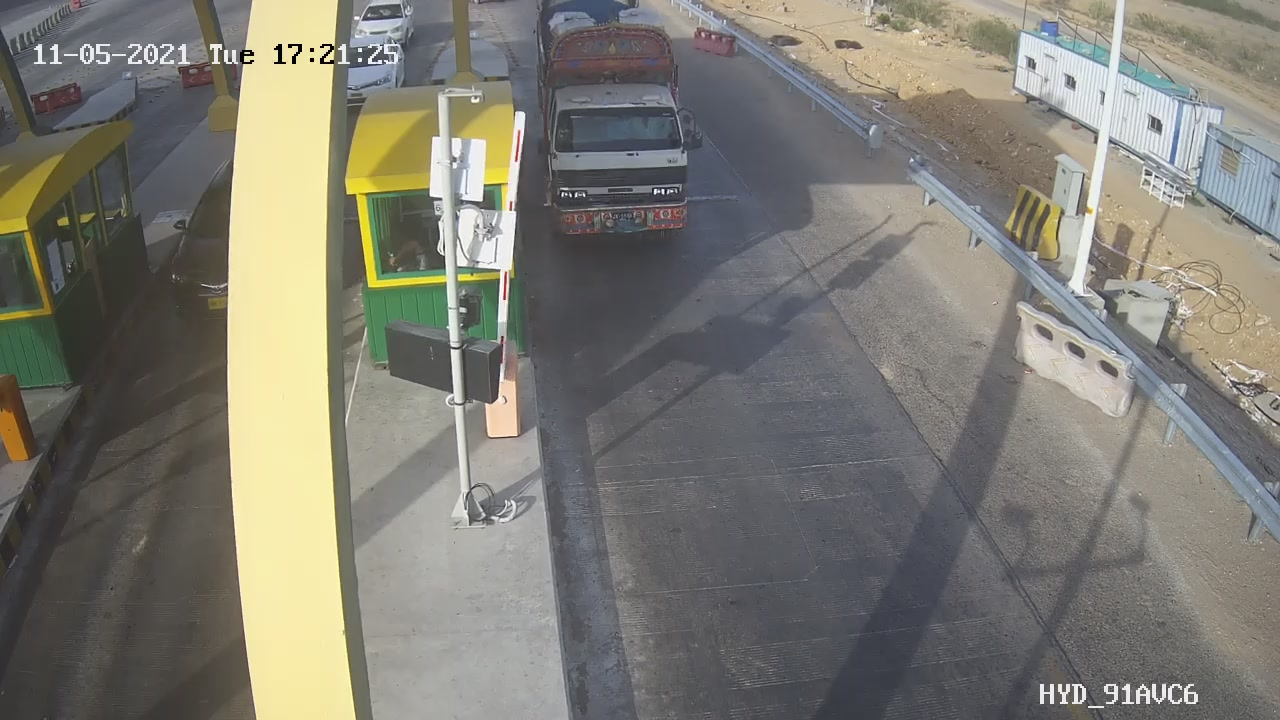F5: (525, 4, 718, 249)
